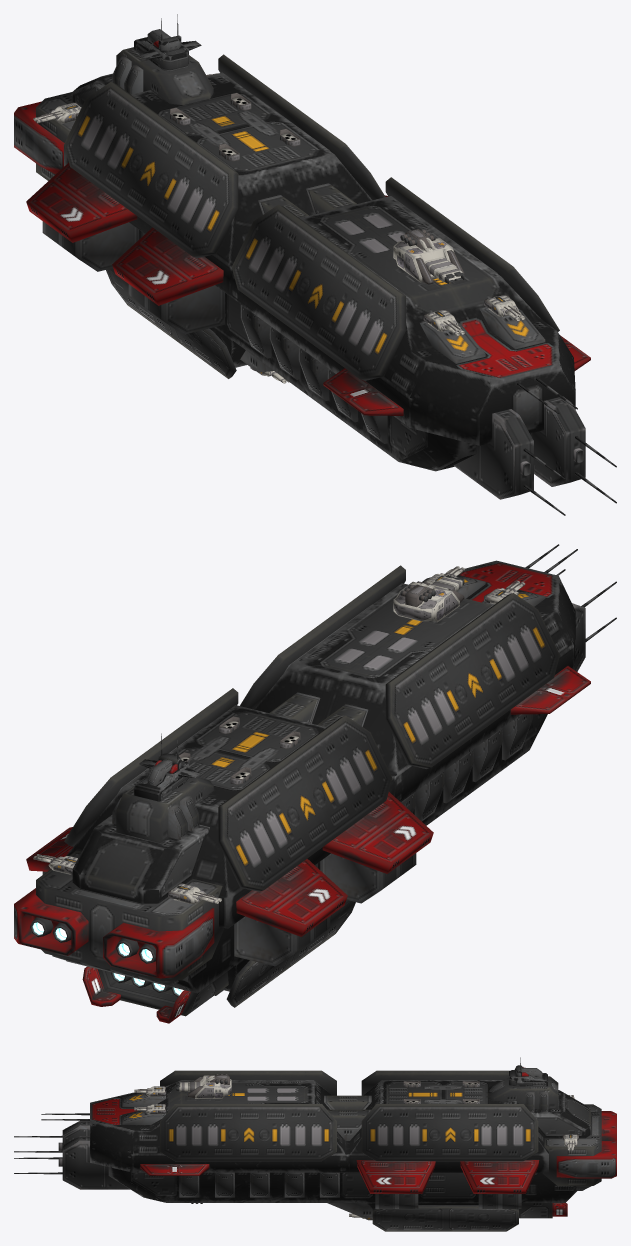
Rendered from reaver-ravener.glb.
3 views of the same model, one above another, from view 1: azimuth 30°, elevation 25°; view 2: azimuth 150°, elevation 25°; view 3: azimuth 270°, elevation 25° (orthographic). The views are drawn at different scales.
Visible parts, largest first — view 1: hull; view 2: hull; view 3: hull.
Boxes of the visible parts, box(x1,y1,x2,y2) form: hull: box(14, 14, 616, 515); hull: box(14, 544, 616, 1023); hull: box(14, 1057, 616, 1231).
Size of the model in its own units: 0.3207 by 0.2945 by 1.
Materials: 1 (1 with a texture image).
